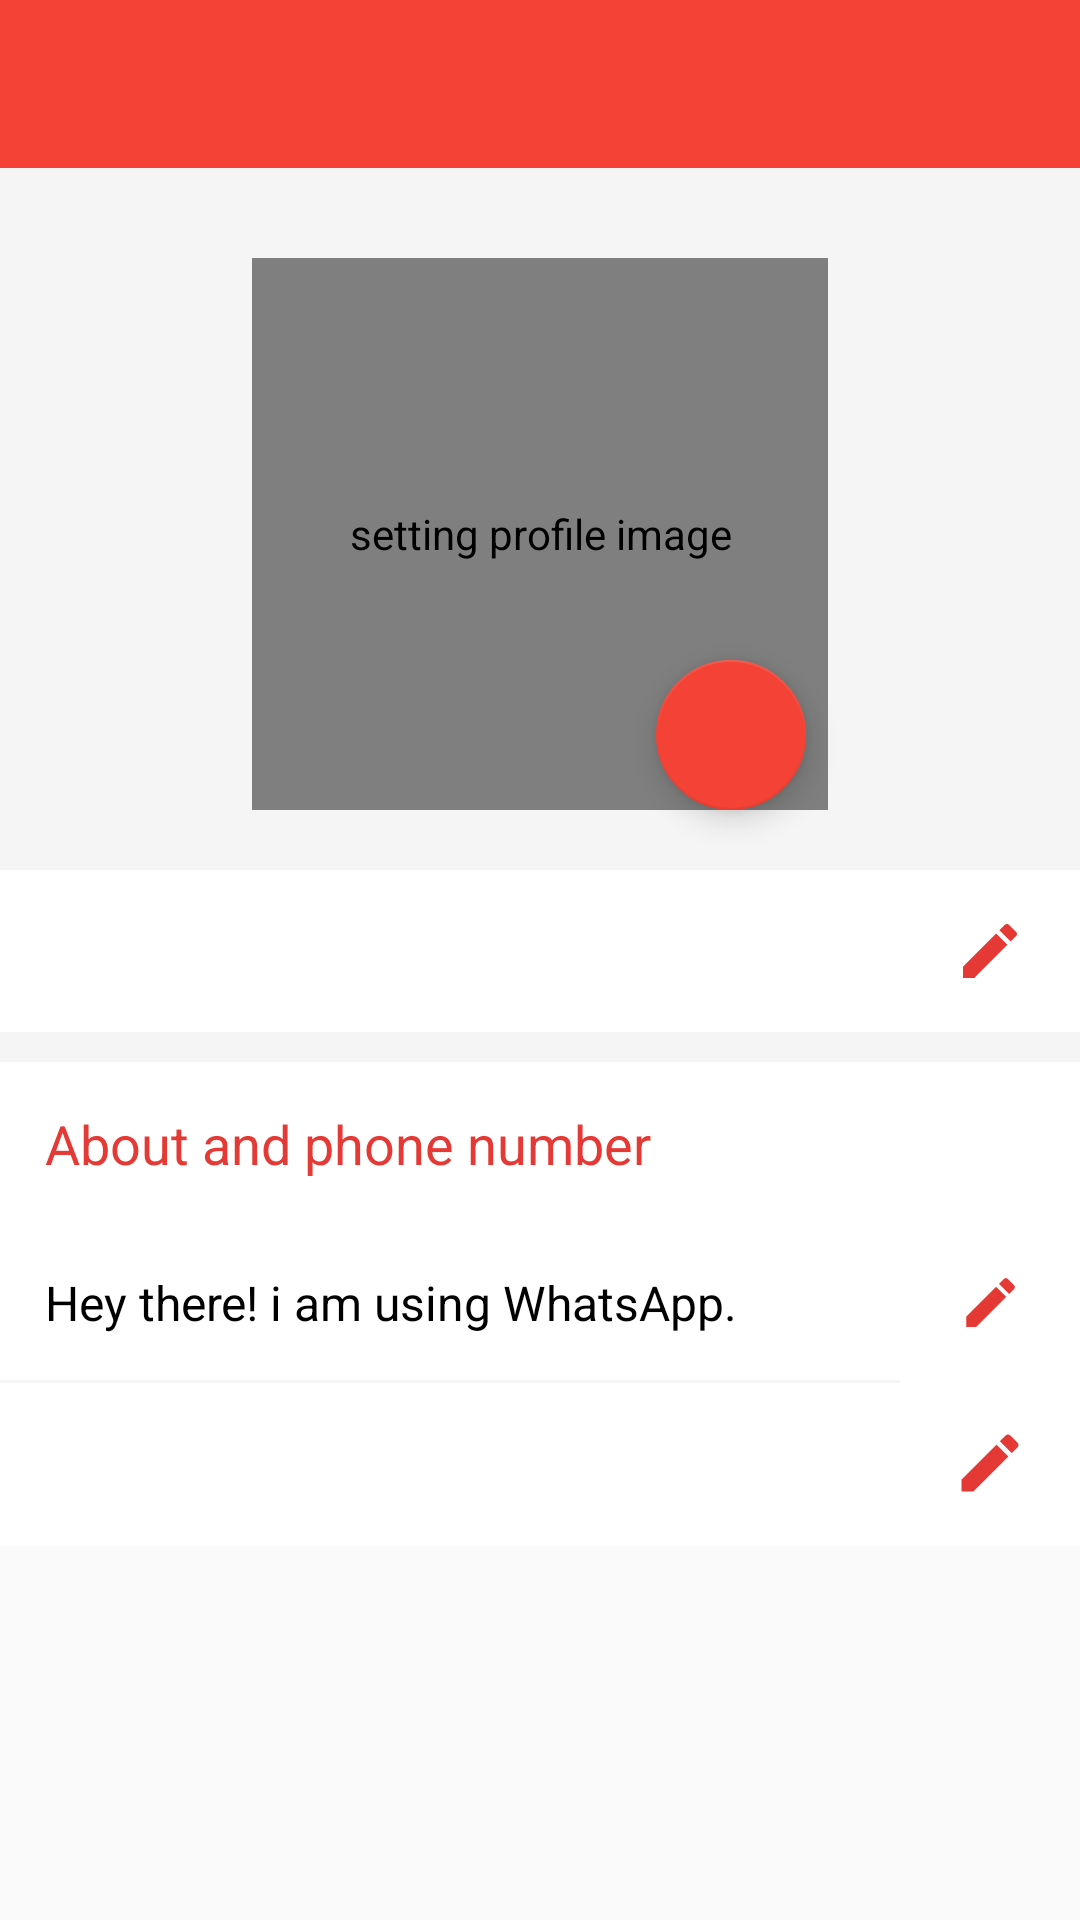

Locate icon controls on the screen. Image size 1080*1920, boxes as (x1, y1, x2, y2).
edit mobile number: (961, 1434, 1019, 1492)
edit name: (963, 924, 1017, 978)
